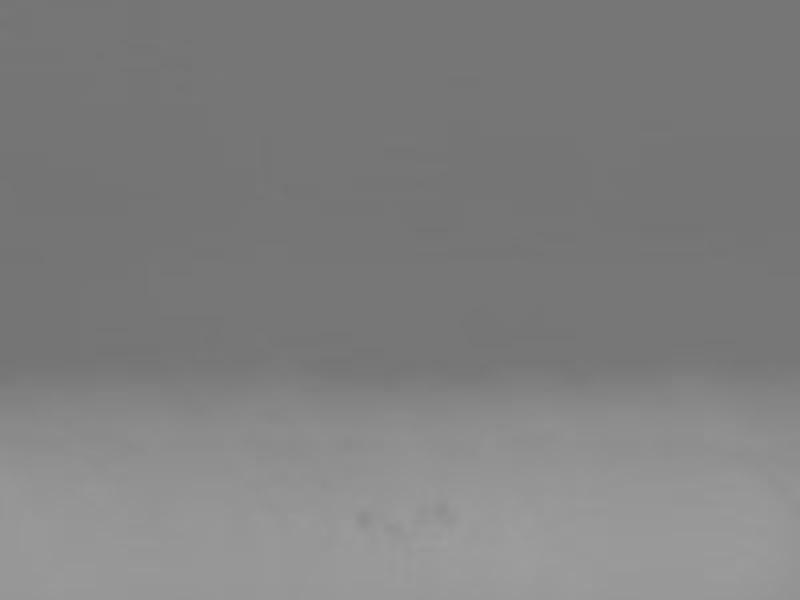defect: (382, 520, 413, 545), (413, 504, 437, 526), (353, 505, 374, 528), (437, 497, 456, 514)
